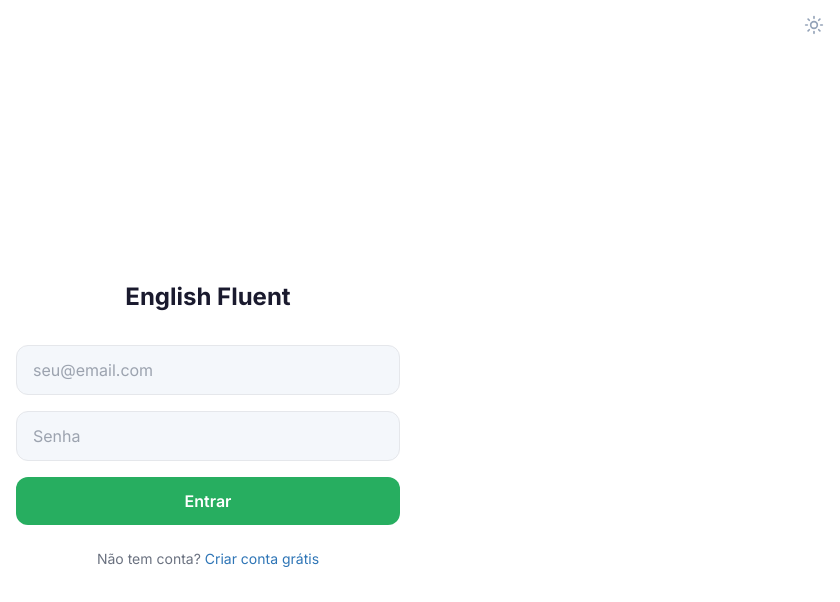
Test: LoginPage › shows validation error when email is empty on submit
The image size is (840, 602).
Click the button "Entrar" at (208, 501), box [16,477,400,525]
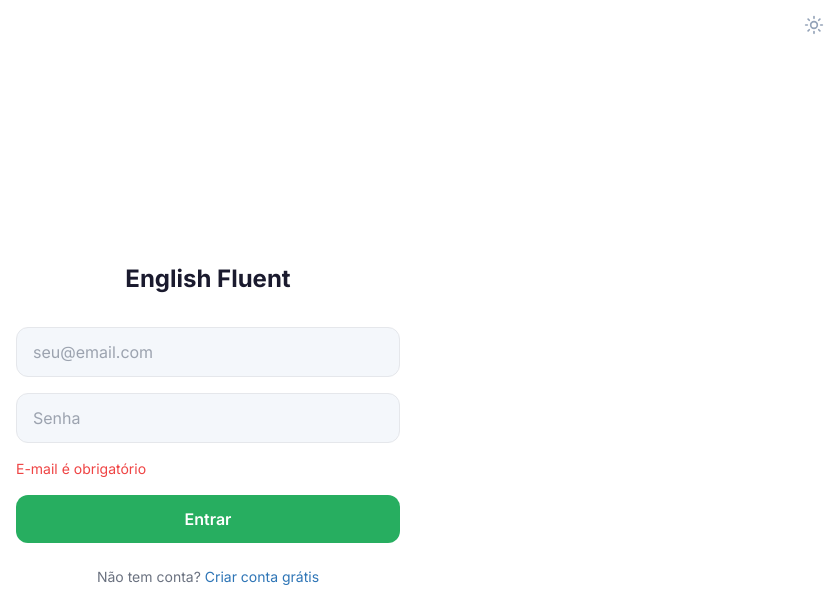
Result: the text "E-mail é obrigatório" is shown at [16,460,146,477]
